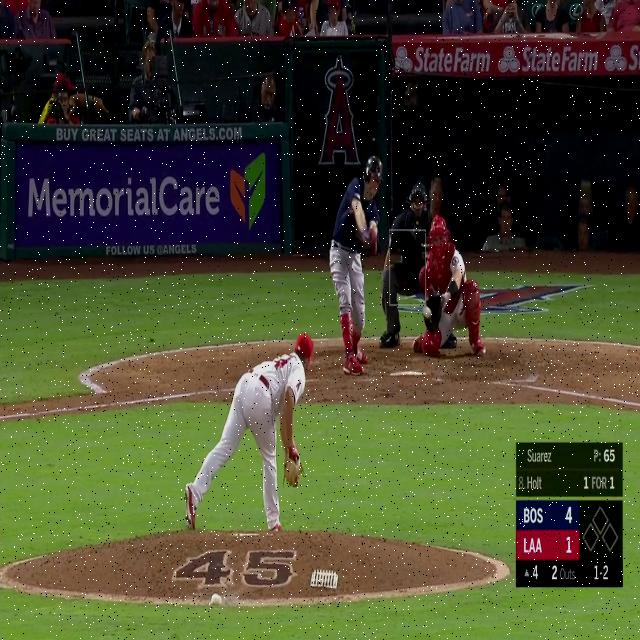baseball: (424, 306, 432, 319)
